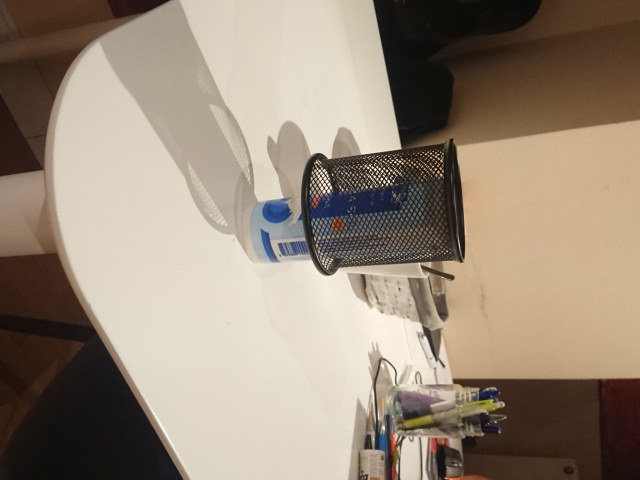Solana Pag Fine Sea Salt 250g: (238, 175, 462, 266)
